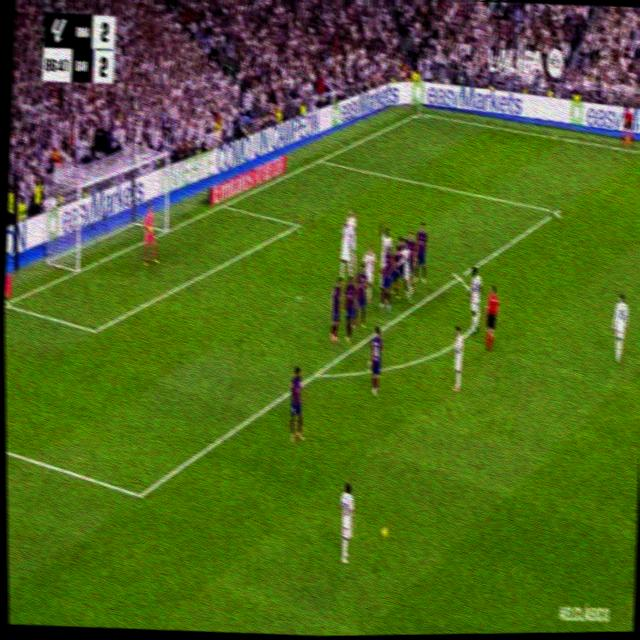bigarea_bottom_inner: (132, 479, 148, 510)
bigarea_top_inner: (550, 199, 562, 221)
bigarea_top_outter: (315, 150, 327, 167)
bottom_arc_area_intersection: (310, 360, 324, 385)
corner: (412, 106, 425, 119)
smallarea_bottom_inner: (89, 318, 101, 343)
smallarea_bottom_outter: (4, 291, 12, 314)
smallarea_top_inner: (292, 214, 305, 234)
top_arc_area_intersection: (452, 265, 465, 288)
